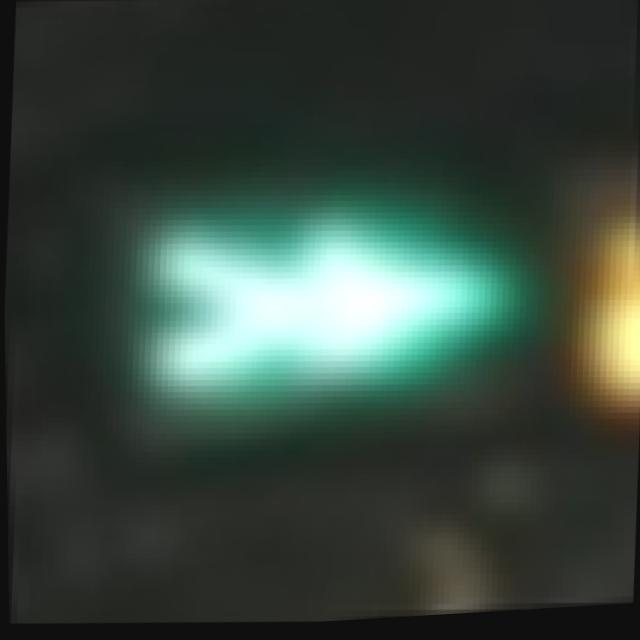green_light: (82, 99, 548, 493)
